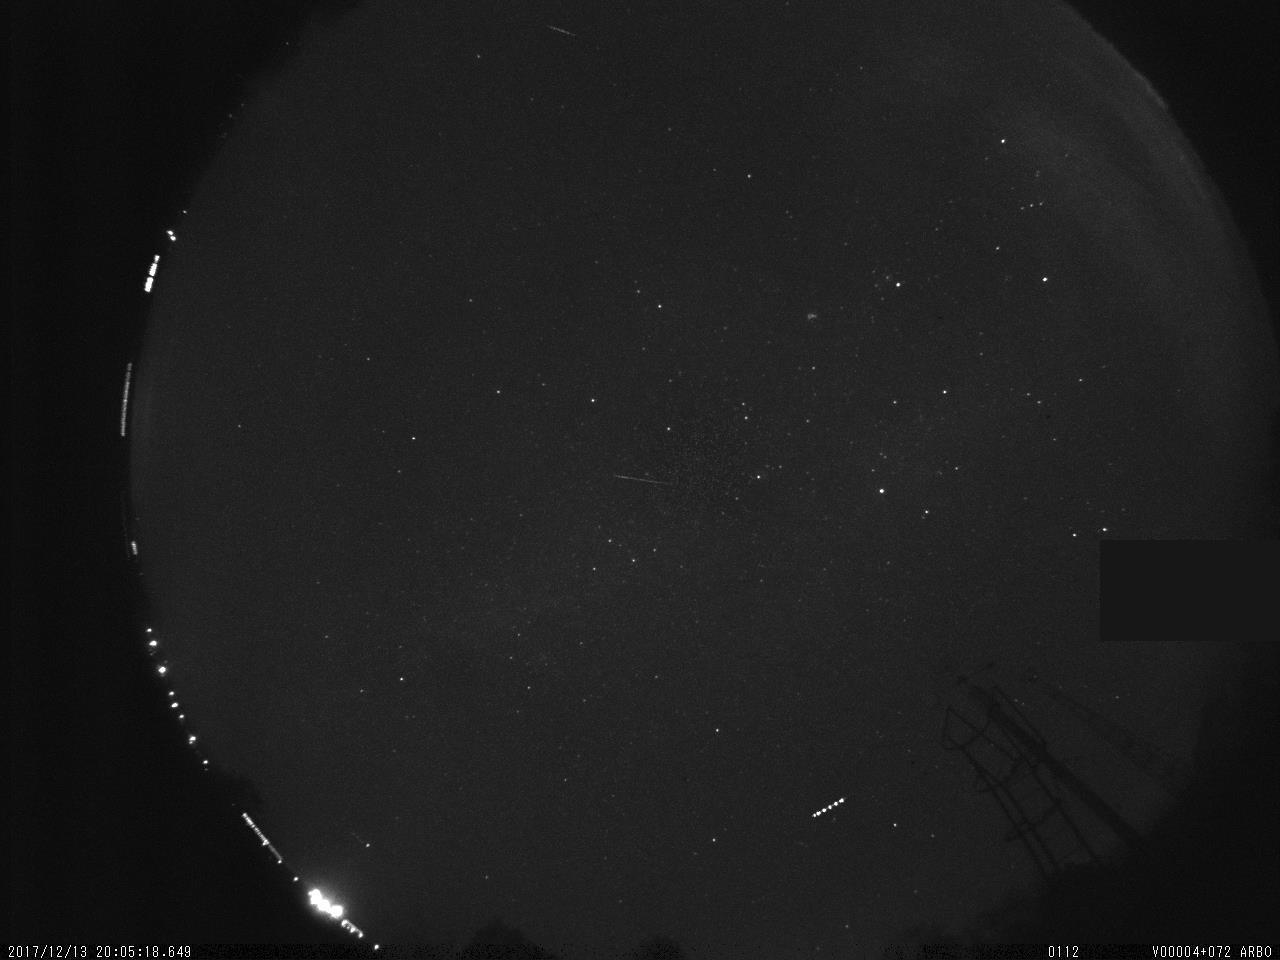meteor: (601, 464, 680, 496), (541, 22, 586, 42)
satelite: (806, 790, 848, 825)
